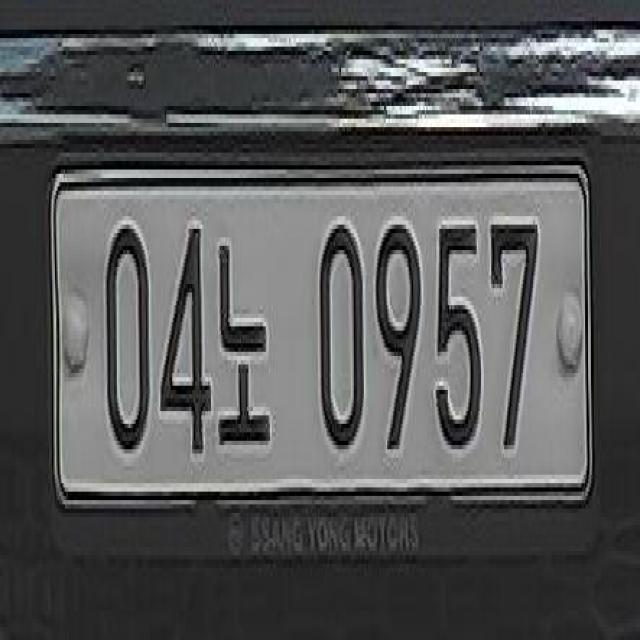illegal_plate: (45, 142, 598, 527)
